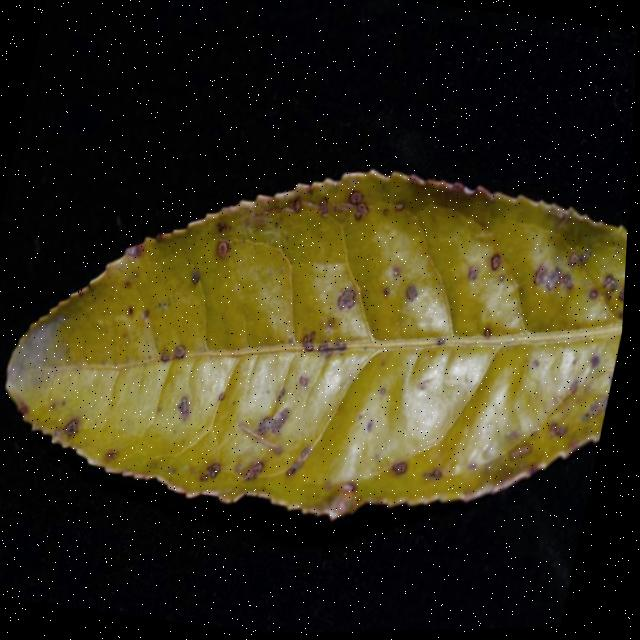Tea red rust: (57, 147, 634, 542)
